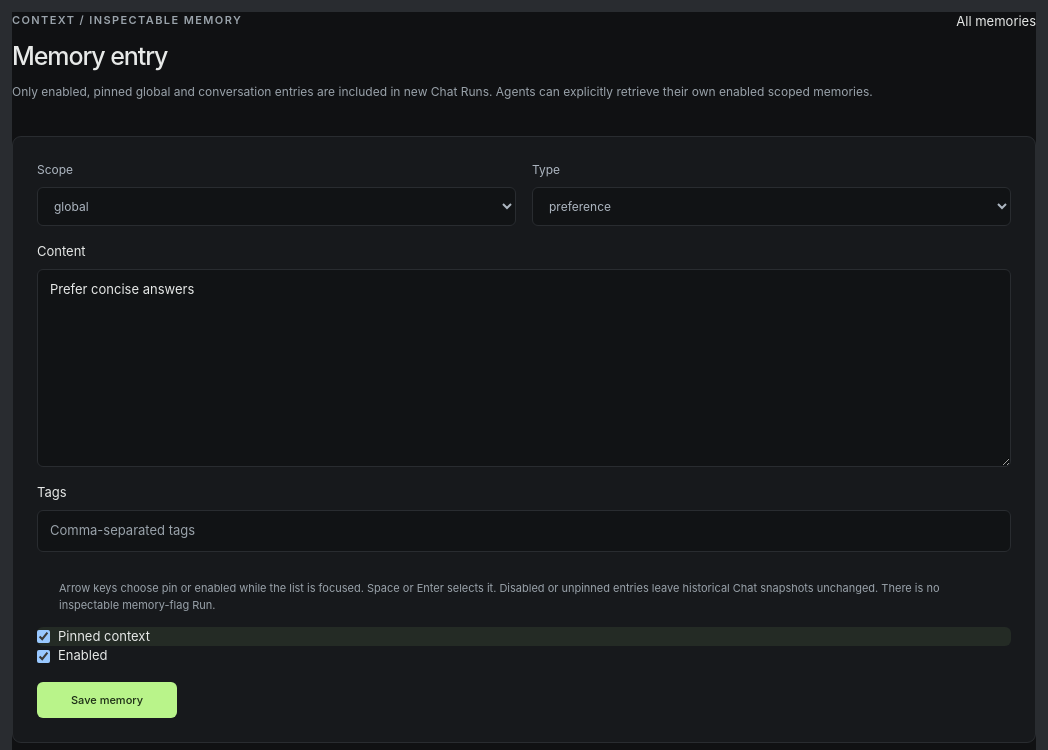
it: keeps edits on conflict and never silently overwrites a newer memory
Replace the text in the text box labelled "Content" with "My unsaved revision" at {"x": 524, "y": 368}, box [37,269,1011,467]
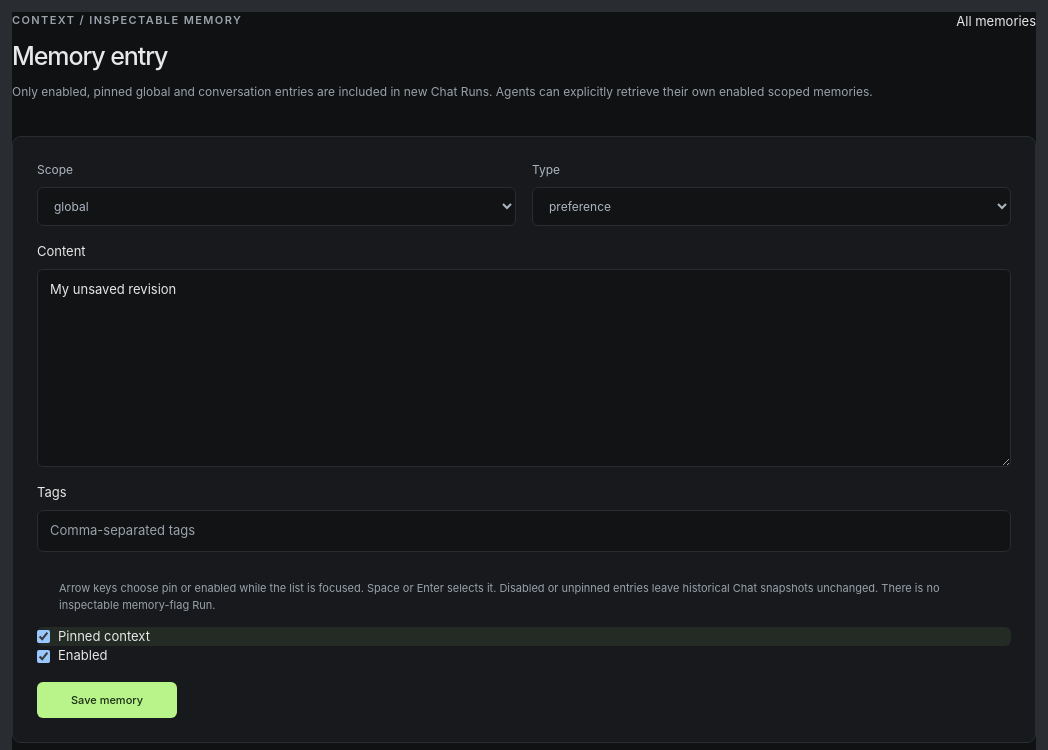
Click the button "Save memory".
click(107, 700)  # box [37,682,177,718]
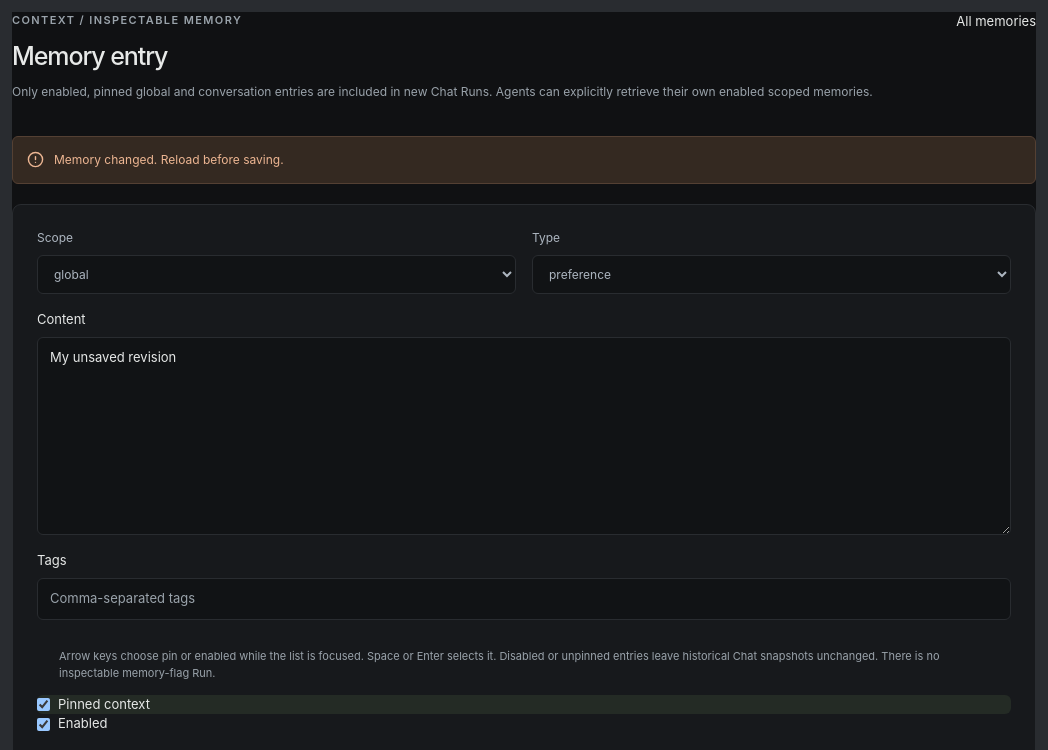
Result: the text "Memory changed. Reload before saving." is shown at [12,136,1036,184]
